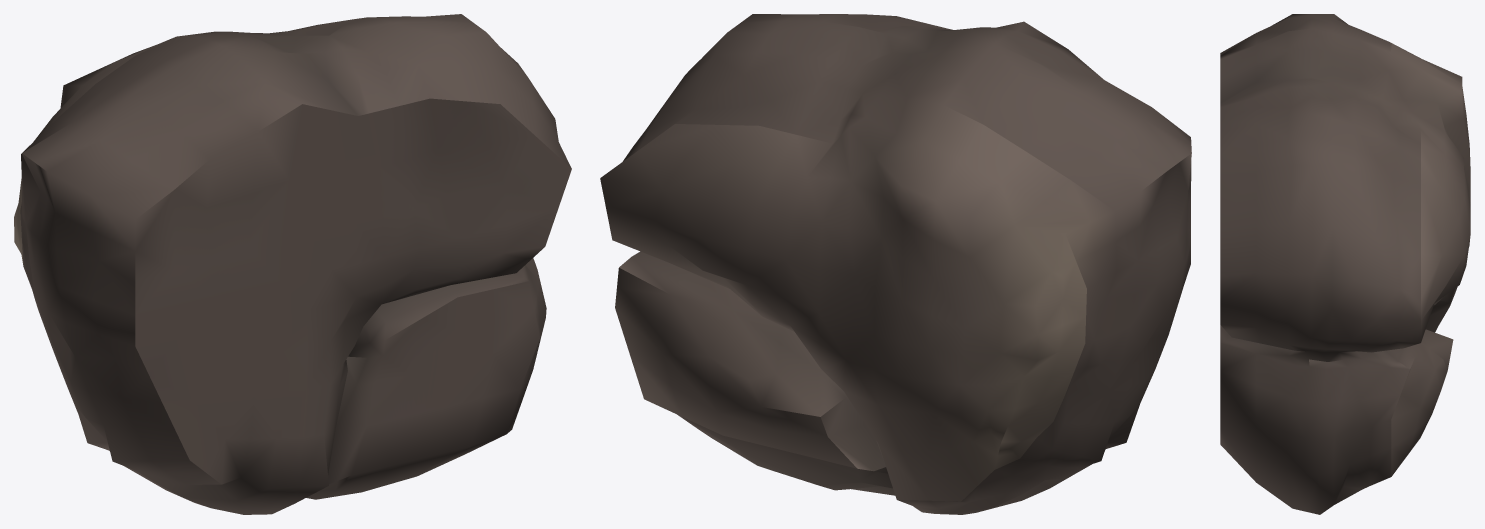
The model's file is SharpRock.006.glb.
3 renders of one model, left to right at view 1: azimuth 30°, elevation 25°; view 2: azimuth 150°, elevation 25°; view 3: azimuth 270°, elevation 25°, orthographic. The views are drawn at different scales.
Parts seen in each view (by area): view 1: SharpRock.006; view 2: SharpRock.006; view 3: SharpRock.006.
Part boxes in pixels (x1,y1,x2,y2): SharpRock.006: (14,14,571,514); SharpRock.006: (600,14,1191,514); SharpRock.006: (1220,14,1470,514).
Size of the model in its own units: 402 by 352 by 204.
